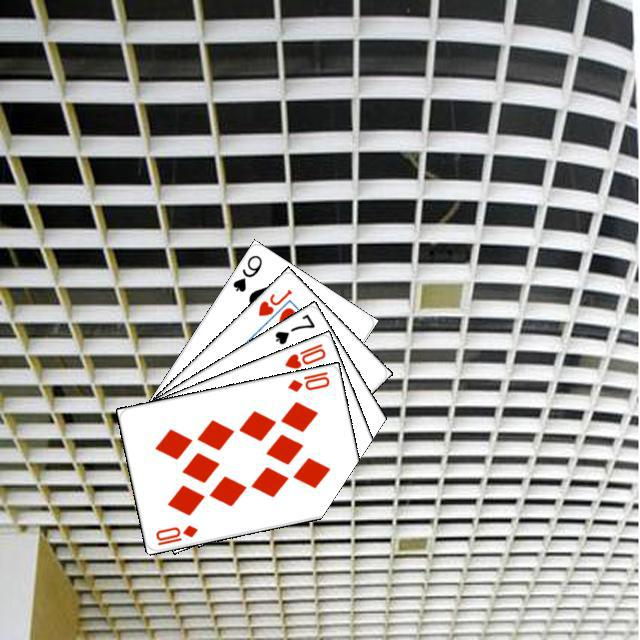10d: (150, 520, 199, 547), (283, 367, 331, 394)
10h: (280, 338, 327, 371)
7s: (270, 309, 316, 346)
9s: (228, 250, 264, 294)
Jh: (253, 284, 294, 318)
